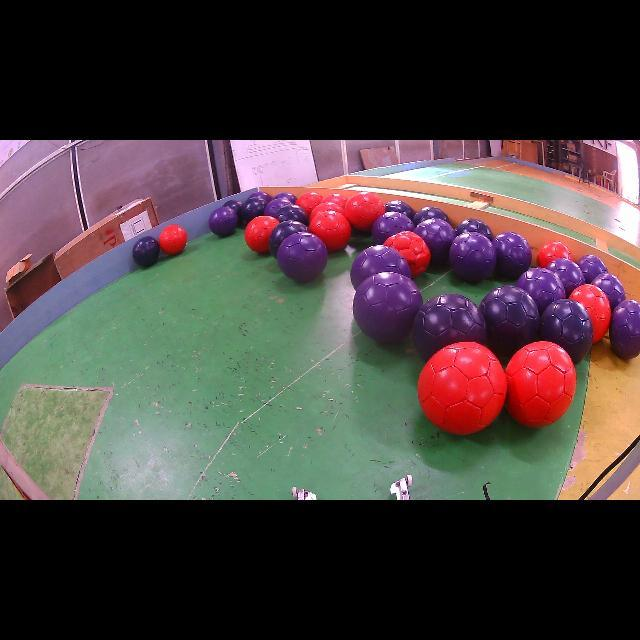B: (412, 294, 486, 360), (480, 285, 540, 356), (540, 299, 594, 363), (269, 220, 308, 259), (132, 236, 160, 267), (455, 219, 494, 241), (412, 206, 450, 226), (275, 204, 309, 226), (241, 198, 268, 222), (385, 200, 415, 220), (222, 200, 242, 218)
P: (352, 271, 422, 342), (350, 245, 411, 289), (278, 231, 328, 282), (449, 231, 496, 282), (516, 268, 566, 314), (492, 231, 532, 279), (414, 219, 456, 263), (609, 300, 640, 359), (546, 258, 585, 298), (371, 211, 415, 244), (591, 274, 626, 311), (209, 206, 238, 236), (578, 255, 608, 283), (264, 199, 291, 216), (272, 191, 298, 204), (249, 191, 272, 202)
R: (418, 341, 508, 435), (505, 341, 576, 428), (569, 284, 611, 342), (384, 231, 431, 277), (309, 211, 351, 252), (345, 191, 385, 231), (245, 215, 279, 252), (536, 240, 574, 268), (159, 225, 188, 255), (310, 202, 345, 222), (295, 191, 322, 215), (322, 194, 348, 208)
